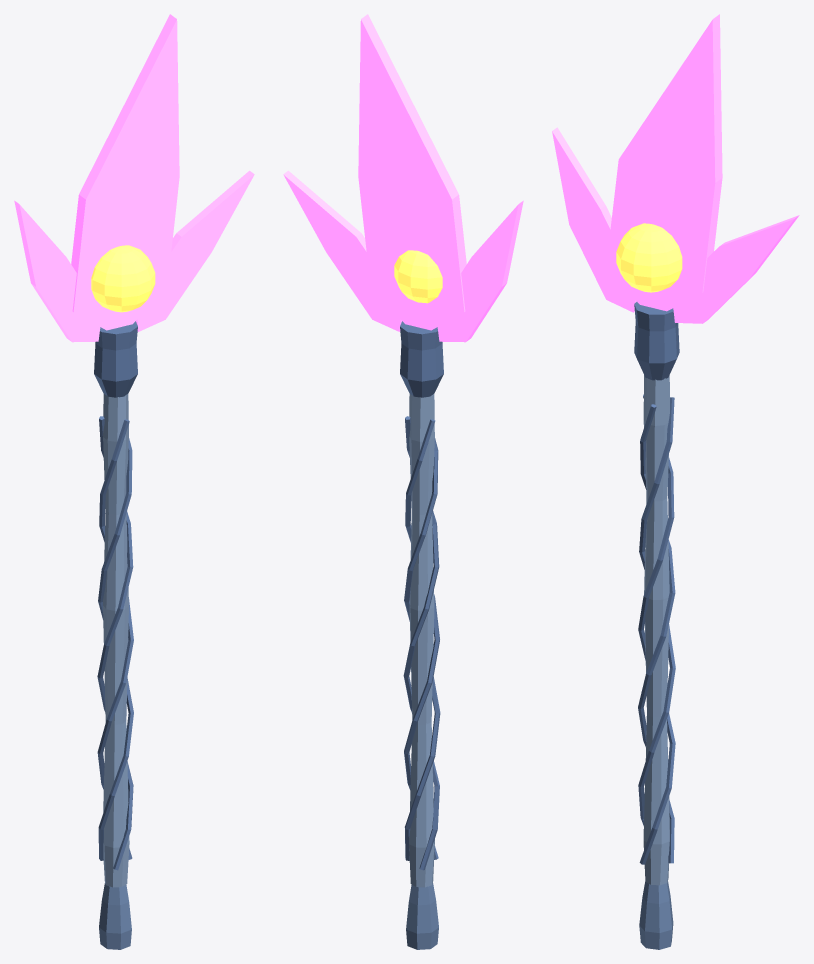
File: staff_roseblaze.glb
The picture shows the model from 3 angles, left to right: view 1: azimuth 30°, elevation 25°; view 2: azimuth 150°, elevation 25°; view 3: azimuth 330°, elevation 25°; orthographic projection. The views are drawn at different scales.
Visible parts, largest first — view 1: Rb_Tear, Rb_Shaft, Rb_Side1, Rb_Side0, Rb_Core, Rb_Neck, Rb_Vine1, Rb_Vine2, Rb_Butt, Rb_Vine0; view 2: Rb_Tear, Rb_Shaft, Rb_Side1, Rb_Side0, Rb_Neck, Rb_Vine0, Rb_Core, Rb_Vine1, Rb_Vine2, Rb_Butt; view 3: Rb_Tear, Rb_Shaft, Rb_Side0, Rb_Side1, Rb_Core, Rb_Neck, Rb_Vine1, Rb_Vine2, Rb_Vine0, Rb_Butt.
Boxes of the visible parts, x1,y1,x2,y2 form: Rb_Tear: (71, 14, 179, 330); Rb_Shaft: (103, 394, 129, 887); Rb_Side1: (136, 170, 254, 331); Rb_Side0: (14, 200, 100, 342); Rb_Core: (91, 245, 155, 312); Rb_Neck: (94, 321, 137, 397); Rb_Vine1: (98, 438, 133, 860); Rb_Vine2: (97, 416, 133, 870); Rb_Butt: (99, 883, 131, 949); Rb_Vine0: (97, 419, 133, 859); Rb_Tear: (358, 14, 466, 330); Rb_Shaft: (409, 394, 434, 887); Rb_Side1: (283, 170, 401, 331); Rb_Side0: (437, 200, 523, 342); Rb_Neck: (400, 321, 443, 397); Rb_Vine0: (404, 438, 440, 860); Rb_Core: (394, 250, 442, 303); Rb_Vine1: (403, 416, 439, 870); Rb_Vine2: (404, 419, 439, 859); Rb_Butt: (406, 883, 438, 949); Rb_Tear: (606, 14, 722, 311); Rb_Shaft: (643, 375, 669, 885); Rb_Side0: (552, 127, 636, 312); Rb_Side1: (673, 215, 799, 323); Rb_Core: (616, 223, 682, 292); Rb_Neck: (634, 302, 679, 380); Rb_Vine1: (638, 397, 675, 825); Rb_Vine2: (638, 394, 675, 864); Rb_Vine0: (638, 404, 675, 863); Rb_Butt: (639, 881, 673, 949).
Bounding box in the file's own units: 0.7283 × 2.7 × 0.1812.
